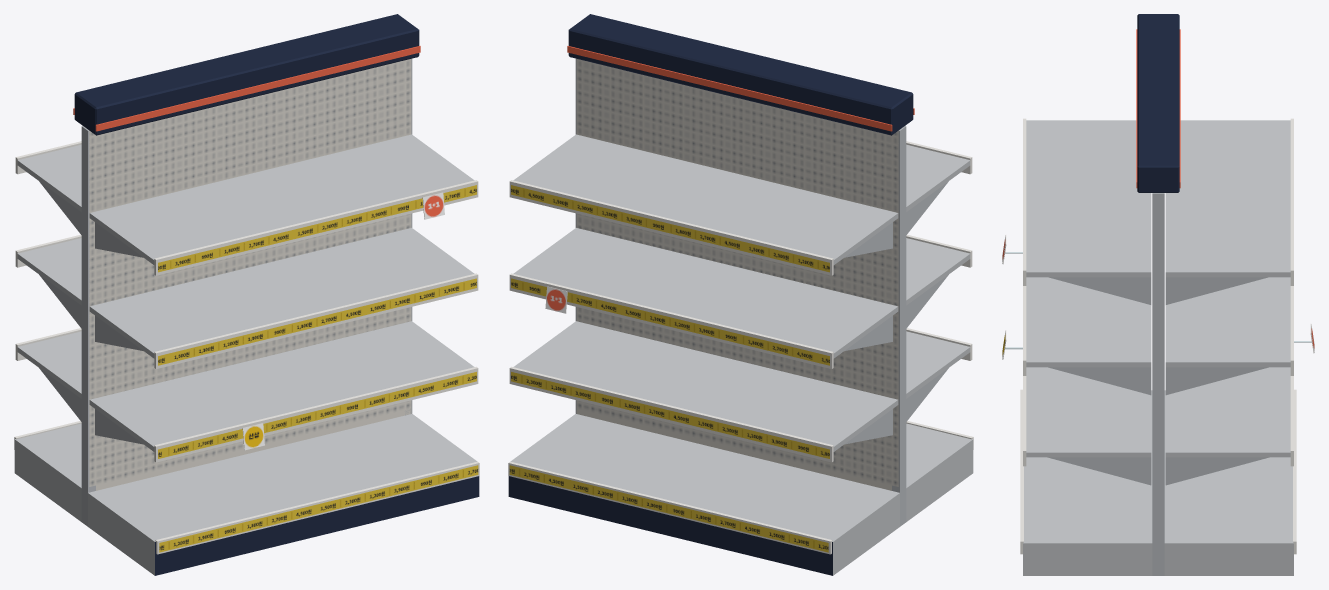
File: SC_Fix_Shelf_Island_1200.gltf
The picture shows the model from 3 angles, left to right: view 1: azimuth 30°, elevation 25°; view 2: azimuth 150°, elevation 25°; view 3: azimuth 270°, elevation 25°; orthographic projection. The views are drawn at different scales.
Visible parts, largest first — view 1: SC_Fix_Shelf_Island_1200; view 2: SC_Fix_Shelf_Island_1200; view 3: SC_Fix_Shelf_Island_1200.
Boxes of the visible parts, bbox=[...] form: SC_Fix_Shelf_Island_1200: bbox=[14, 14, 479, 575]; SC_Fix_Shelf_Island_1200: bbox=[508, 14, 973, 575]; SC_Fix_Shelf_Island_1200: bbox=[1002, 14, 1314, 575].
Bounding box in the file's own units: 1.2 × 1.5 × 1.04.
Materials: 2 (2 with a texture image).
